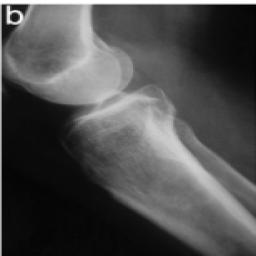cancer: (63, 100, 228, 213)
